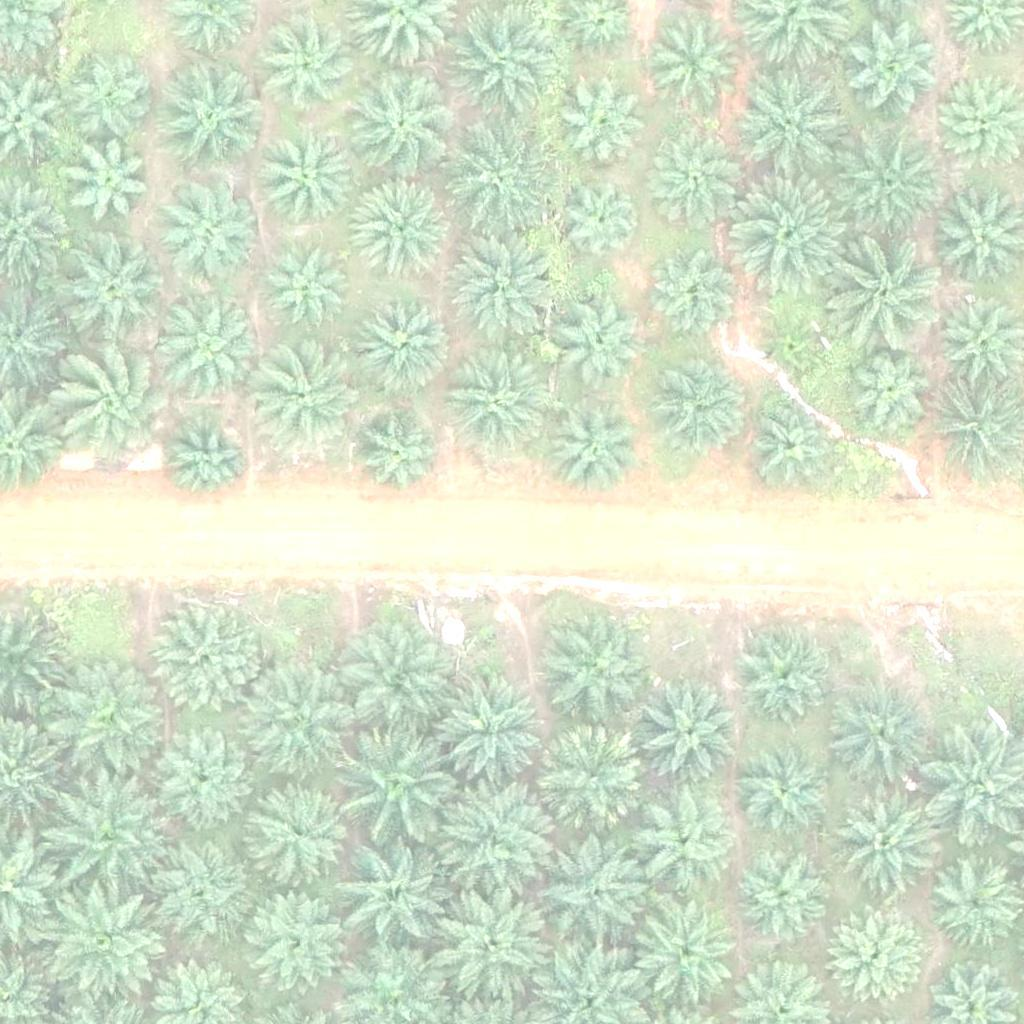Kelapa_Sawit: (53, 345, 178, 471), (539, 610, 652, 724), (437, 674, 550, 788), (437, 883, 550, 997), (53, 884, 166, 998), (828, 233, 941, 347), (451, 5, 564, 119), (535, 724, 648, 837), (433, 788, 546, 901), (343, 725, 456, 838), (150, 606, 263, 719), (48, 667, 161, 780), (827, 679, 939, 793), (624, 790, 736, 904), (538, 834, 650, 948), (247, 663, 359, 777), (439, 346, 551, 460), (337, 838, 449, 951), (341, 626, 453, 739), (141, 834, 253, 947), (51, 782, 163, 895), (831, 126, 943, 239), (736, 68, 848, 181), (733, 179, 845, 292), (442, 124, 554, 237), (450, 236, 562, 349), (344, 68, 456, 181), (254, 342, 366, 455), (53, 234, 165, 347), (734, 628, 834, 729), (637, 686, 737, 787), (635, 906, 735, 1007), (249, 779, 349, 880), (151, 720, 251, 821), (842, 341, 942, 442), (837, 21, 937, 122), (650, 359, 750, 460), (544, 403, 644, 504), (355, 294, 455, 395), (260, 19, 360, 120), (256, 130, 356, 231), (160, 70, 260, 171), (157, 179, 257, 280), (836, 798, 936, 898), (824, 910, 924, 1010), (732, 847, 832, 947), (735, 742, 835, 842), (248, 890, 348, 990), (354, 177, 454, 277), (162, 302, 262, 402), (651, 134, 739, 222), (560, 85, 648, 173), (556, 179, 644, 267), (356, 417, 444, 505), (748, 400, 835, 489), (268, 245, 355, 334), (932, 855, 1019, 943), (656, 30, 743, 118), (649, 250, 736, 338), (556, 296, 643, 384), (163, 417, 250, 505), (67, 53, 154, 141), (64, 141, 151, 229), (764, 318, 827, 381)
